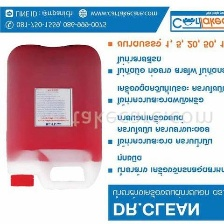cleaning_solution: (3, 42, 104, 192)
